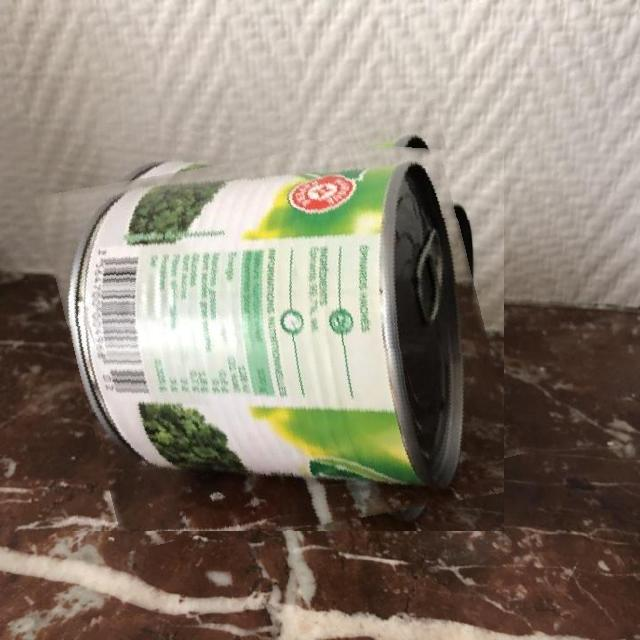recyclable: (54, 121, 504, 531)
